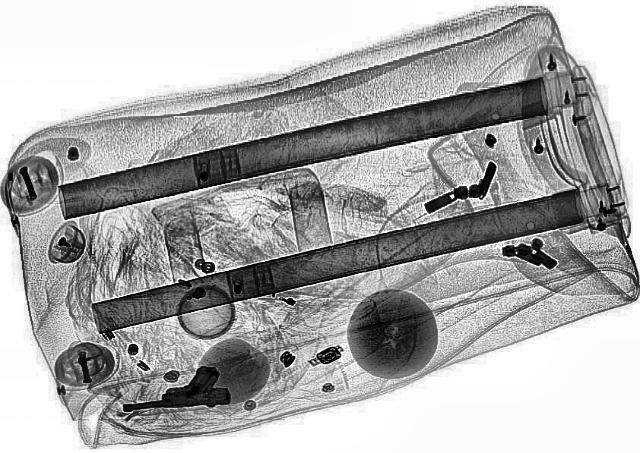Gun: (115, 364, 228, 412)
